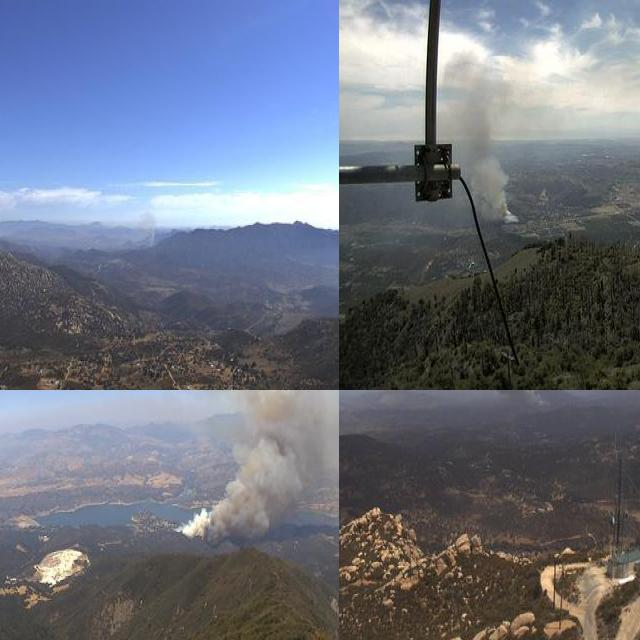smoke: (161, 390, 339, 543), (438, 48, 528, 225), (390, 390, 558, 430), (124, 205, 160, 249)
